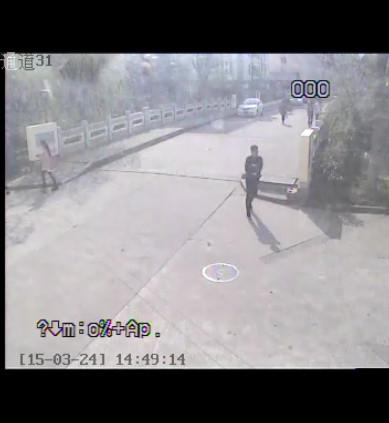person: (242, 144, 263, 221), (34, 139, 61, 191), (278, 98, 294, 125), (304, 101, 315, 129), (313, 101, 326, 120)
